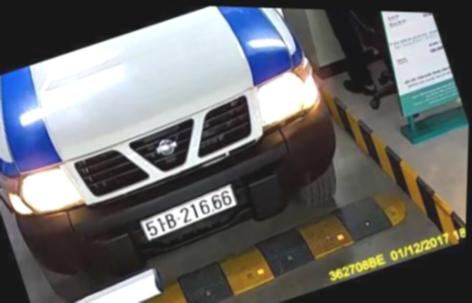License_Plate: (136, 180, 240, 247)
